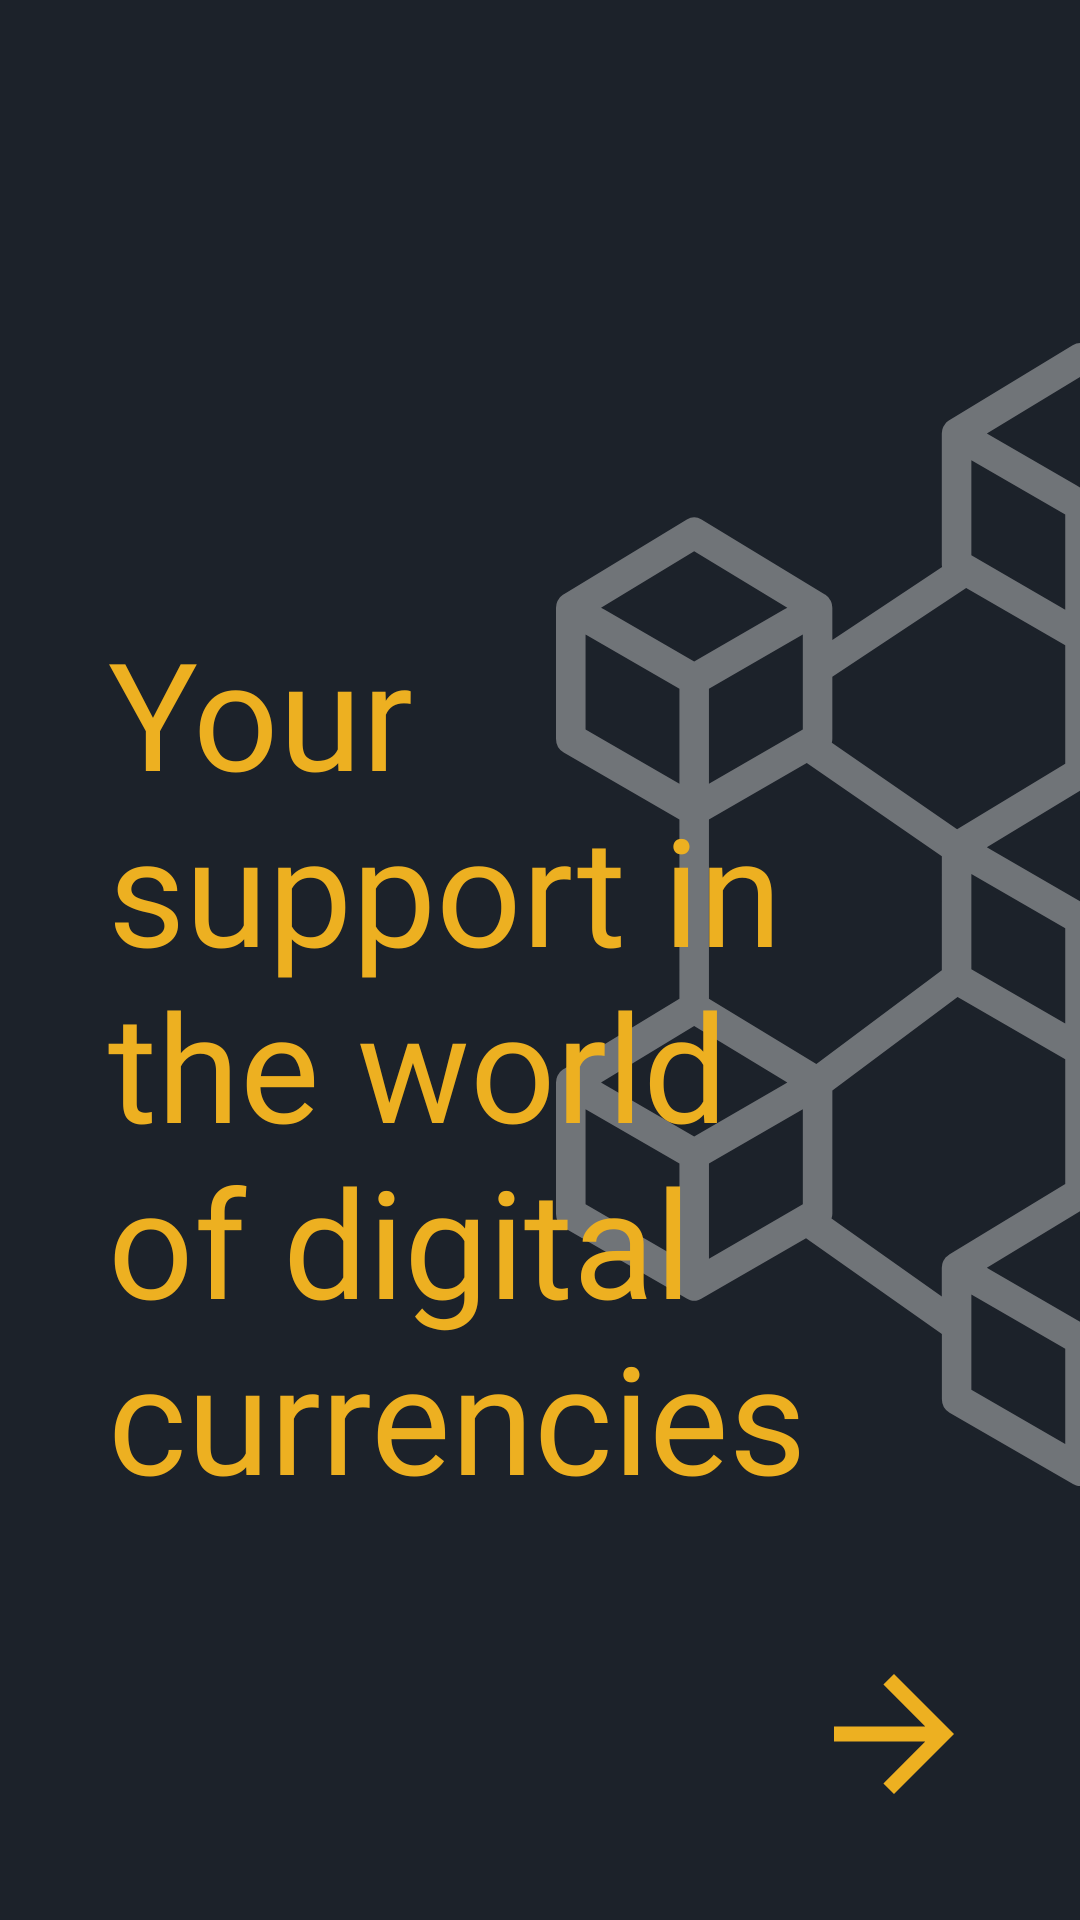

Icons on this 1080 × 1920 Android screen, each with its box as (x1, y1, x2, y2):
arrow forward: (834, 1674, 954, 1794)
